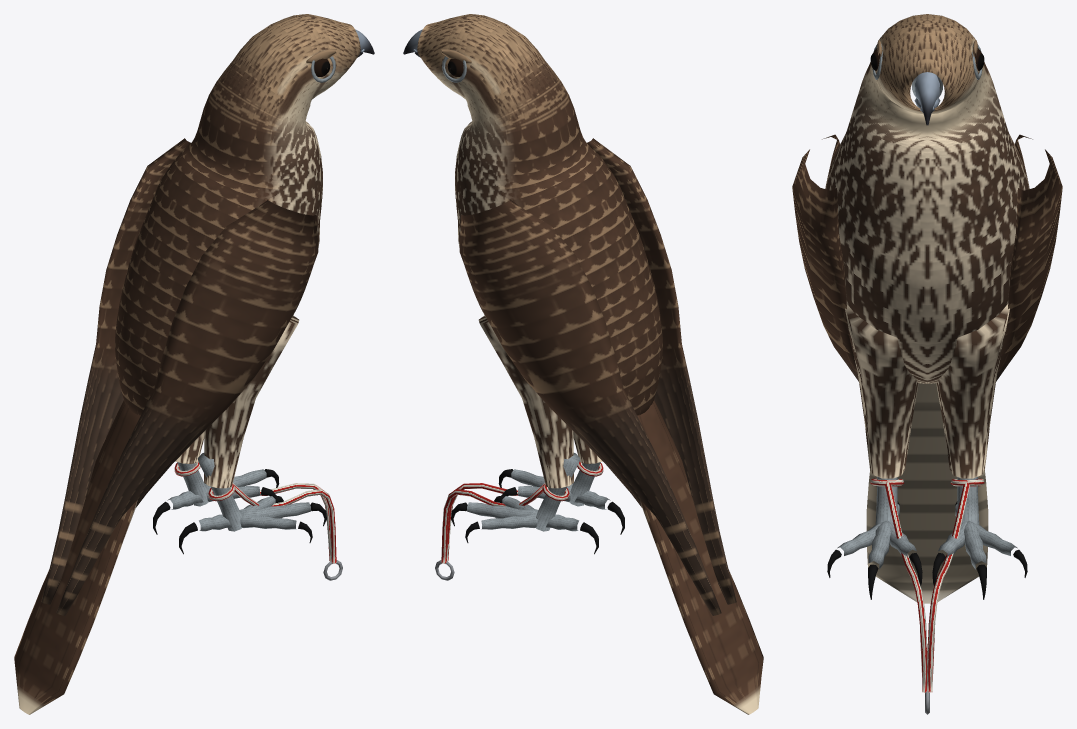
File: saker_alert.glb
The picture shows the model from 3 angles, left to right: view 1: azimuth 30°, elevation 25°; view 2: azimuth 150°, elevation 25°; view 3: azimuth 270°, elevation 25°; orthographic projection. The views are drawn at different scales.
Parts seen in each view (by area): view 1: saker_body, saker_jesses; view 2: saker_body, saker_jesses; view 3: saker_body, saker_jesses.
Boxes of the visible parts, x1,y1,x2,y2 form: saker_body: (14,14,374,714); saker_jesses: (174,461,342,580); saker_body: (403,14,763,714); saker_jesses: (435,461,603,580); saker_body: (792,14,1062,603); saker_jesses: (870,478,984,714).
Bounding box in the file's own units: 0.2595 × 0.4413 × 0.146.
1 material, 1 textured.
